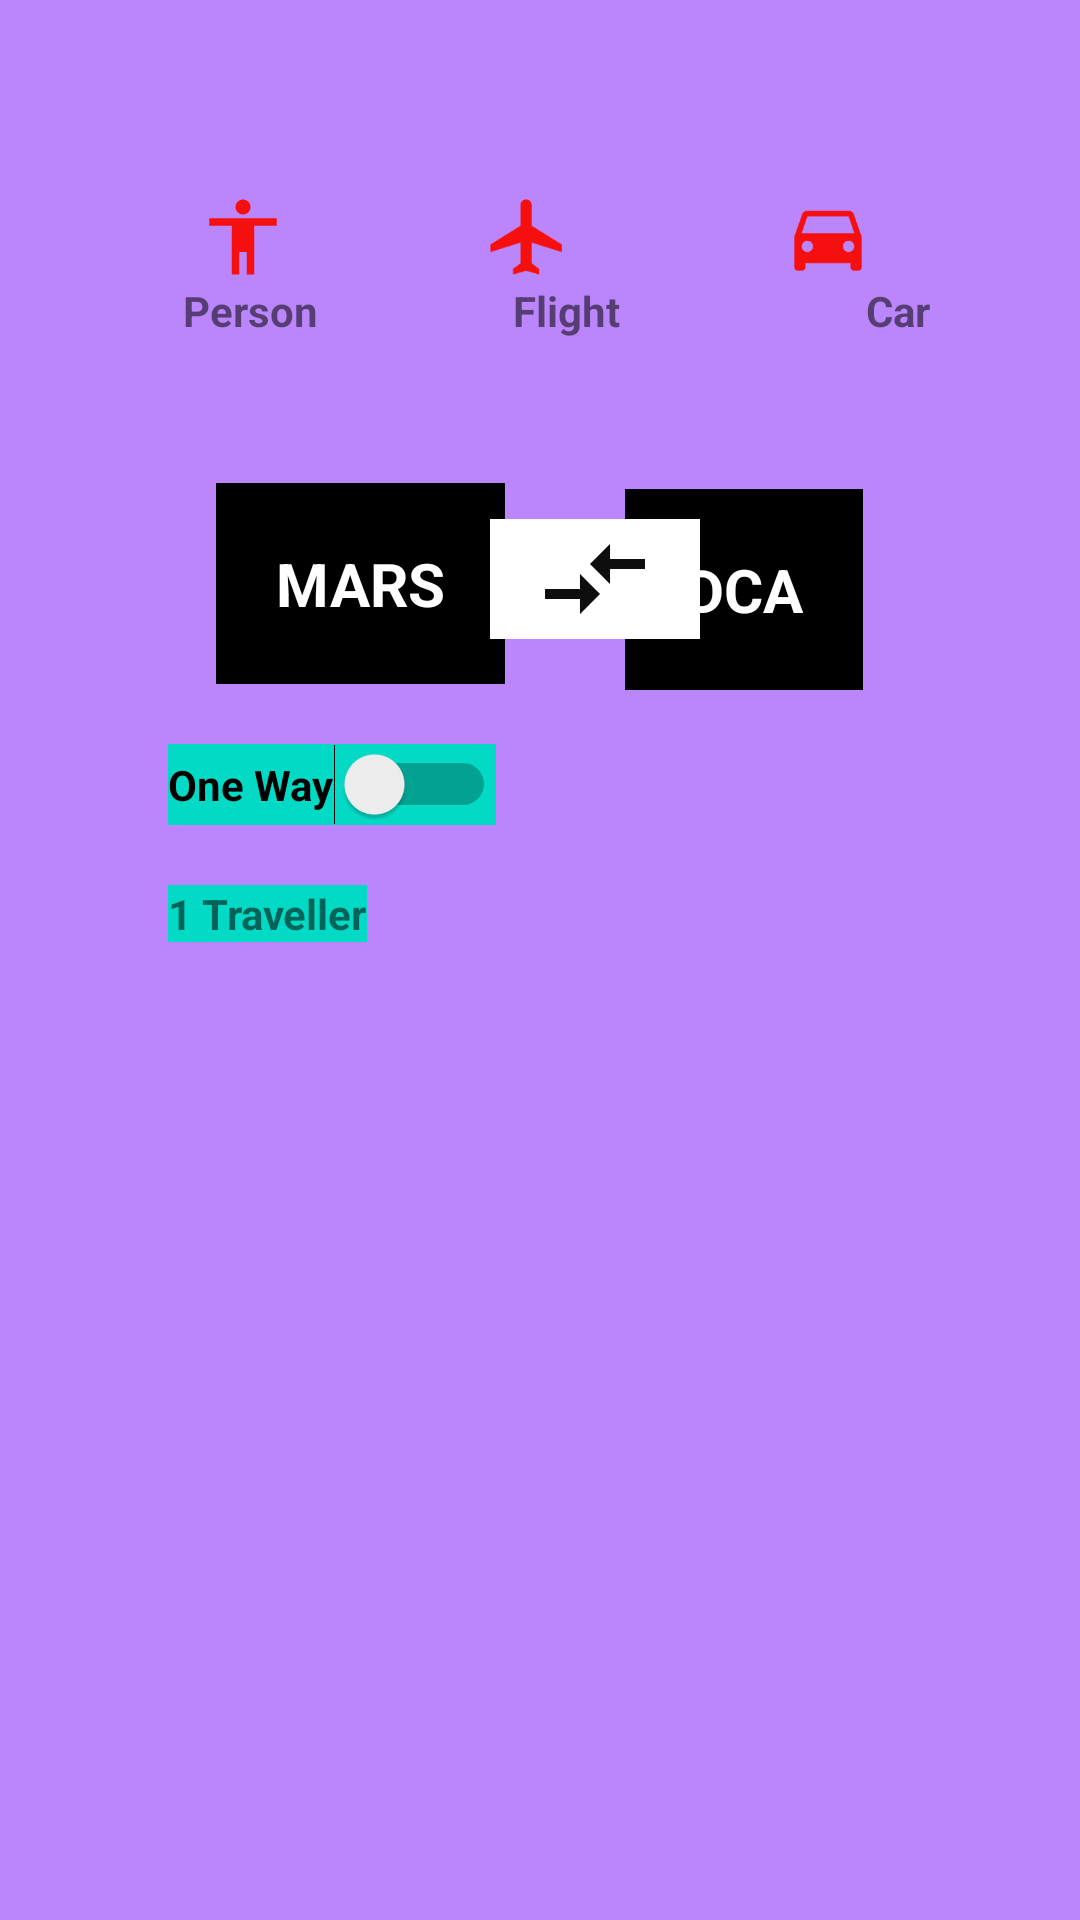

Screen size 1080 x 1920. Icon name, then its box in pixels as bbox=[x1, y1, x2, y2]:
accessibility: bbox=[209, 199, 277, 275]
directions car: bbox=[794, 210, 862, 271]
